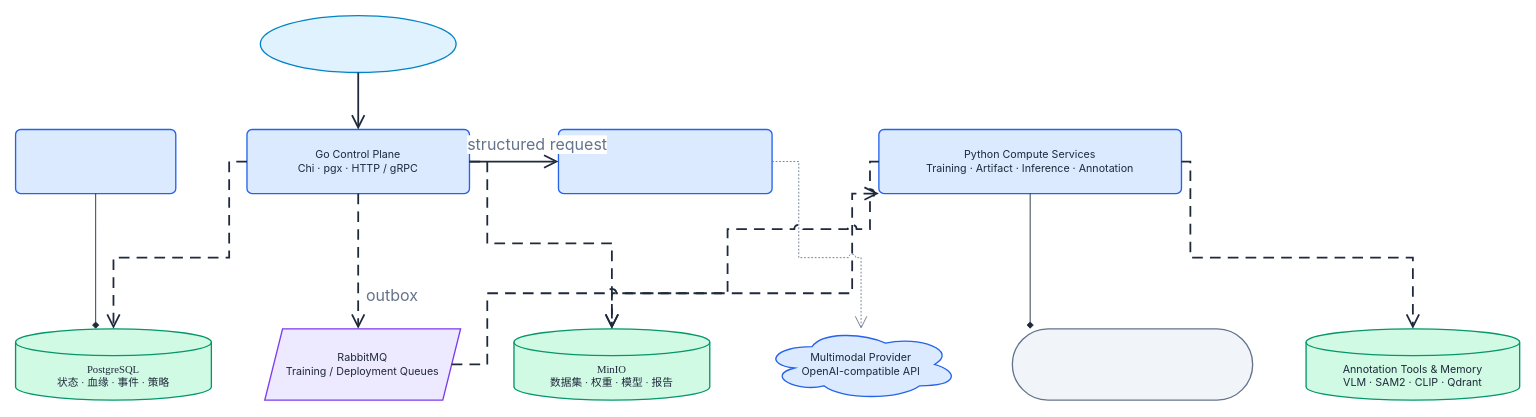
This 1536x417 diagram has some shape labels left out. The centre of each missing label's shape, as x and y in pixels:
DB Migrate SQL migrations: (x=95, y=161)
Go LLM Gateway Eino · Structured Output: (x=664, y=161)
Model Runtimes PyTorch · ORT · TensorRT · Ascend: (x=1132, y=364)
浏览器 / React 前端 Vite · React Router :5173: (x=357, y=44)
